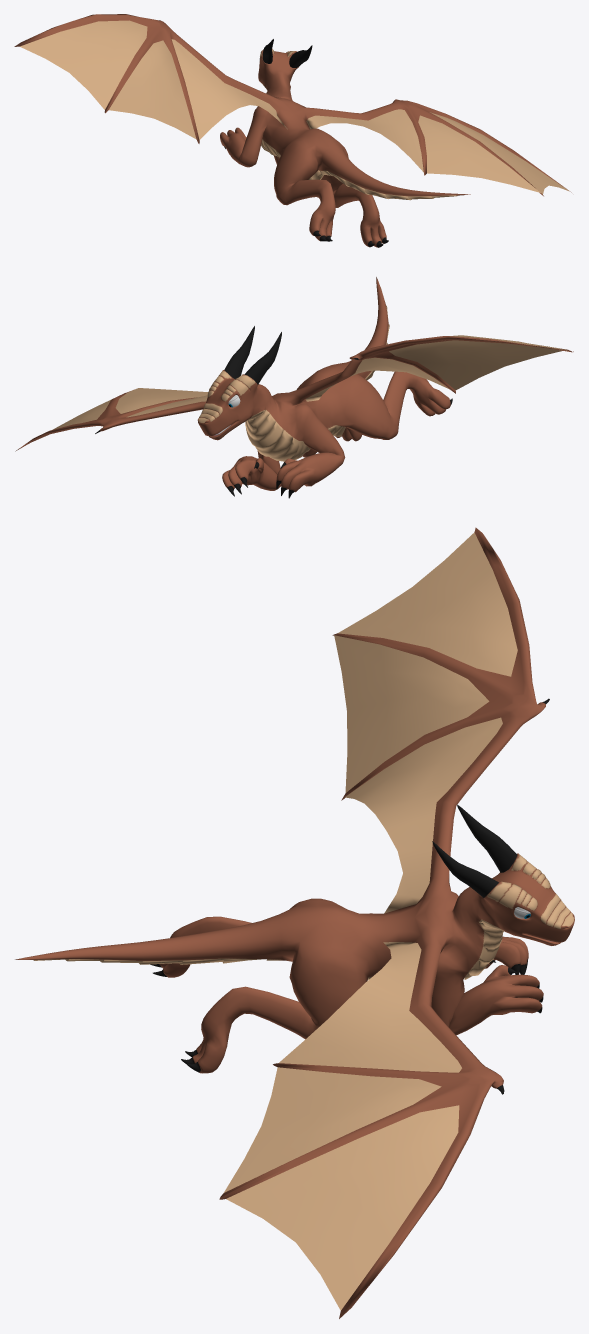
Rendered from dragon.obj.
3 views of the same model, one above another, from view 1: azimuth 30°, elevation 25°; view 2: azimuth 150°, elevation 25°; view 3: azimuth 270°, elevation 25° (orthographic). The views are drawn at different scales.
Visible parts, largest first — view 1: Drgn_Drgn.Mesh; view 2: Drgn_Drgn.Mesh; view 3: Drgn_Drgn.Mesh.
Boxes of the visible parts, x1=… form: Drgn_Drgn.Mesh: x1=14, y1=14, x2=571, y2=247; Drgn_Drgn.Mesh: x1=15, y1=277, x2=573, y2=498; Drgn_Drgn.Mesh: x1=15, y1=527, x2=574, y2=1318.
Size of the model in its own units: 18.06 by 8.17 by 10.6.
7 materials, 7 textured.
